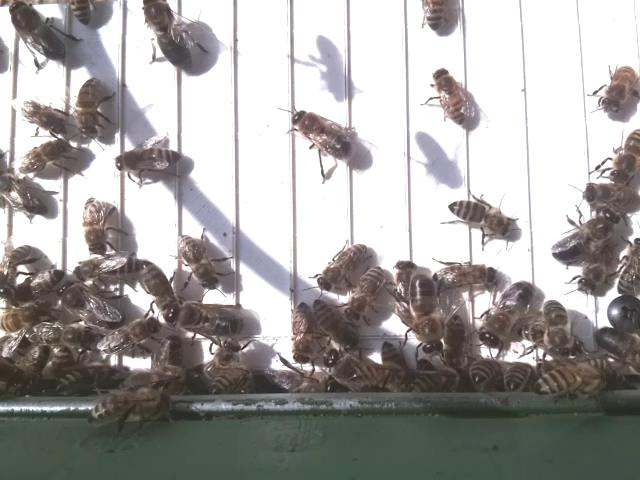Drone: (479, 279, 539, 350), (286, 106, 358, 165), (549, 207, 621, 266), (6, 0, 71, 63), (141, 0, 197, 73), (162, 300, 246, 339), (409, 275, 446, 356)
Worker: (445, 195, 513, 237), (178, 230, 221, 291), (315, 243, 367, 292), (98, 317, 161, 357), (309, 299, 355, 351), (429, 68, 469, 126), (347, 263, 386, 322), (598, 64, 640, 117), (72, 254, 143, 284), (81, 194, 114, 258), (111, 146, 181, 176), (12, 140, 72, 175), (140, 258, 177, 311), (610, 124, 640, 184), (580, 182, 640, 210), (78, 78, 104, 139)
